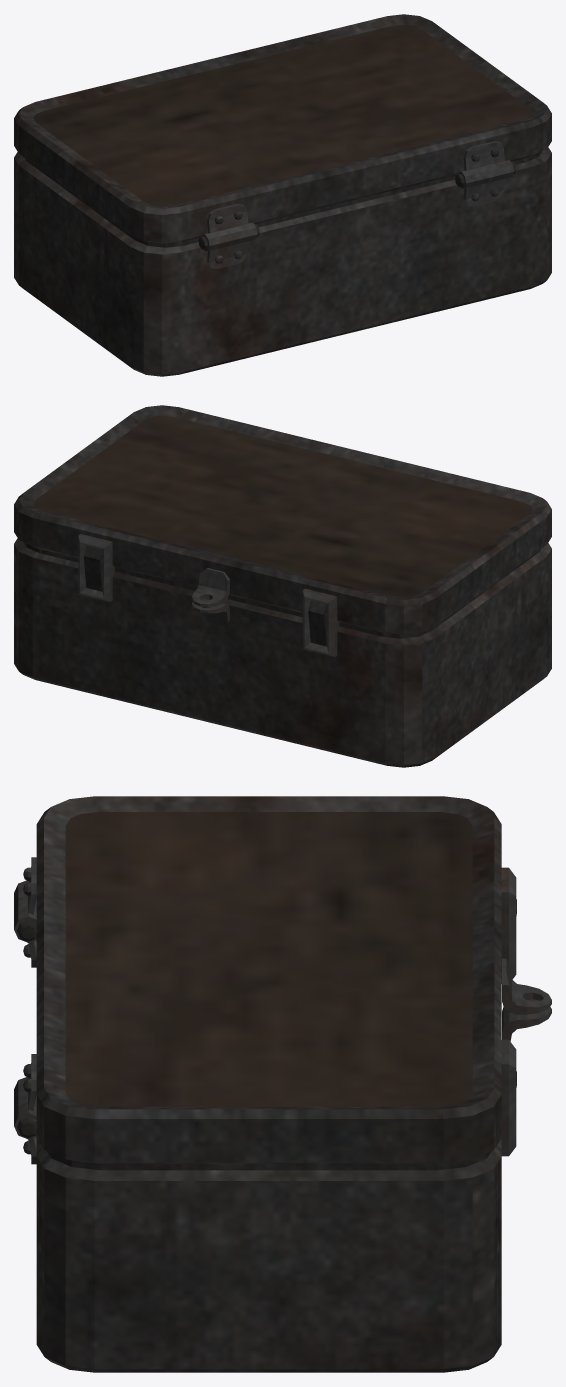
File: metal_crate_1.fbx
3 views of the same model, one above another, from view 1: azimuth 30°, elevation 25°; view 2: azimuth 150°, elevation 25°; view 3: azimuth 270°, elevation 25° (orthographic). The views are drawn at different scales.
Visible parts, largest first — view 1: metal_crate_1; view 2: metal_crate_1; view 3: metal_crate_1.
Boxes of the visible parts, x1,y1,x2,y2 form: metal_crate_1: (14, 14, 551, 376); metal_crate_1: (14, 405, 551, 767); metal_crate_1: (14, 796, 551, 1372).
Size of the model in its own units: 0.52 by 0.3702 by 0.2.
